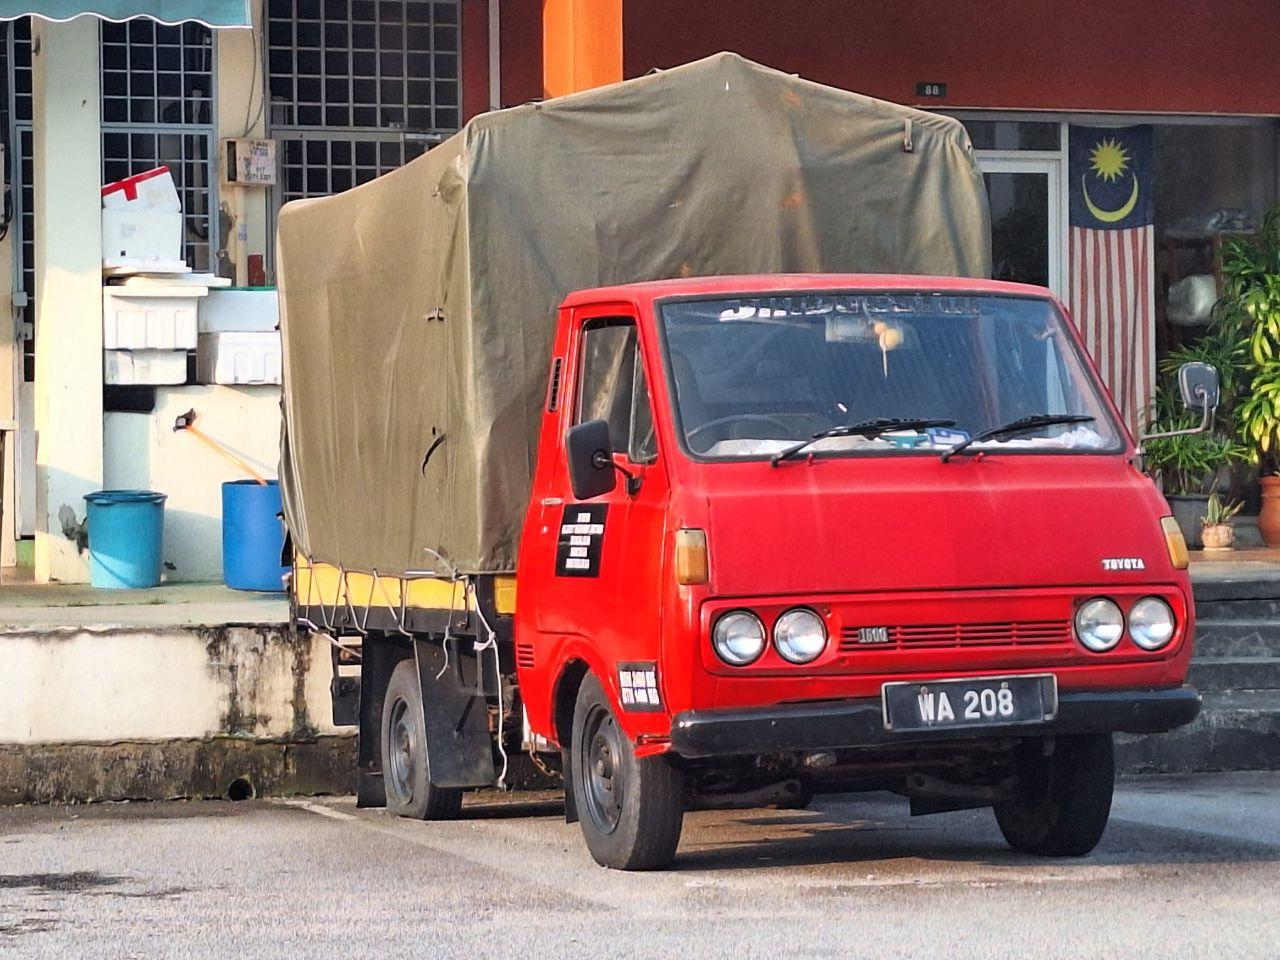License Plate: (889, 678, 1049, 731)
